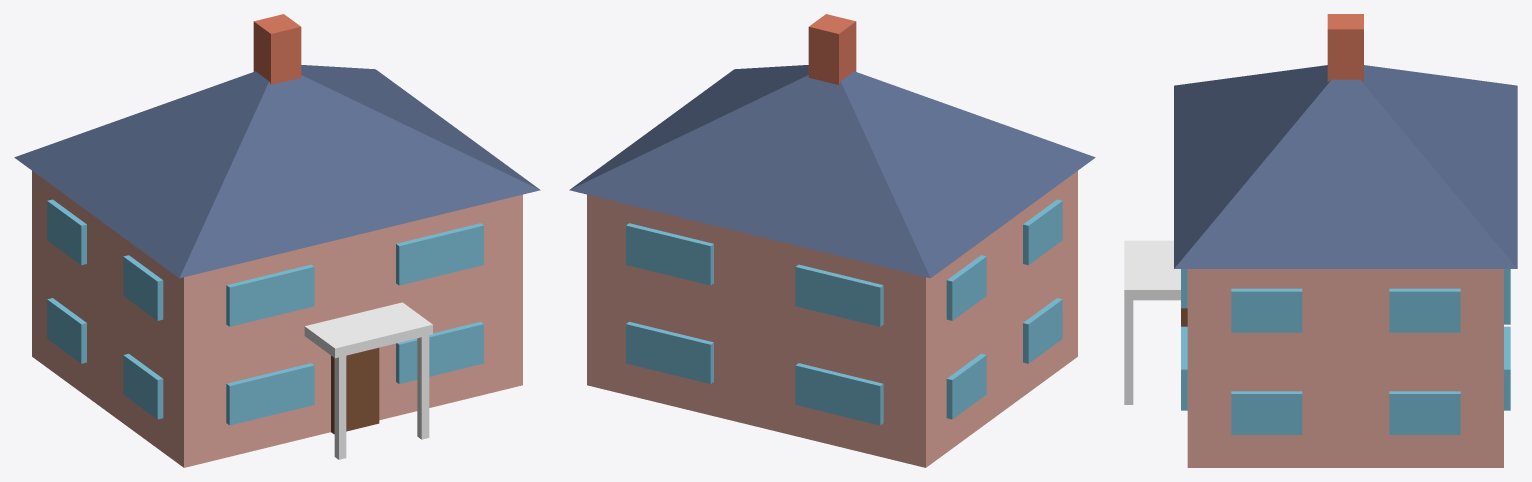
The model's file is house_2.glb.
3 renders of one model, left to right at view 1: azimuth 30°, elevation 25°; view 2: azimuth 150°, elevation 25°; view 3: azimuth 270°, elevation 25°, orthographic. The views are drawn at different scales.
Visible parts, largest first — view 1: house_2_wall_pink, house_2_roof_slate, house_2_window, house_2_white, house_2_brick, house_2_door; view 2: house_2_wall_pink, house_2_roof_slate, house_2_window, house_2_brick; view 3: house_2_roof_slate, house_2_wall_pink, house_2_window, house_2_white, house_2_brick.
Part boxes in pixels (box(x1,y1,x2,y2)): house_2_wall_pink: box(32, 171, 522, 467); house_2_roof_slate: box(14, 65, 540, 278); house_2_window: box(47, 199, 483, 425); house_2_white: box(304, 302, 432, 459); house_2_brick: box(253, 14, 301, 84); house_2_door: box(331, 347, 379, 434); house_2_wall_pink: box(587, 171, 1077, 467); house_2_roof_slate: box(569, 65, 1095, 278); house_2_window: box(626, 199, 1062, 425); house_2_brick: box(808, 14, 856, 84); house_2_roof_slate: box(1174, 65, 1517, 268); house_2_wall_pink: box(1187, 269, 1503, 467); house_2_window: box(1181, 269, 1510, 434); house_2_white: box(1124, 240, 1180, 404); house_2_brick: box(1327, 14, 1363, 81).
Size of the model in its own units: 9.6 by 8.8 by 8.7.
